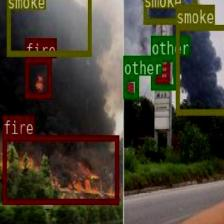fire: (2, 135, 118, 203), (24, 57, 51, 98)
smoke: (7, 0, 90, 55), (175, 25, 224, 114), (143, 0, 196, 23)
